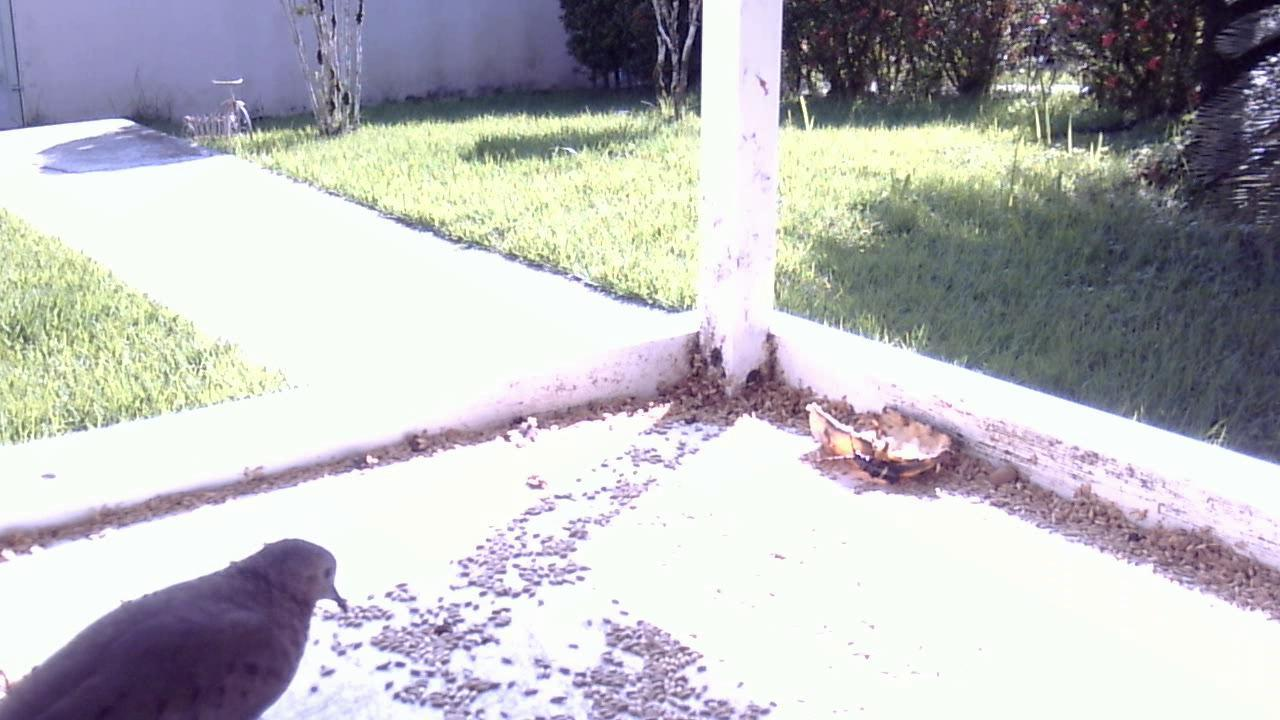rolinha: (6, 527, 362, 718)
